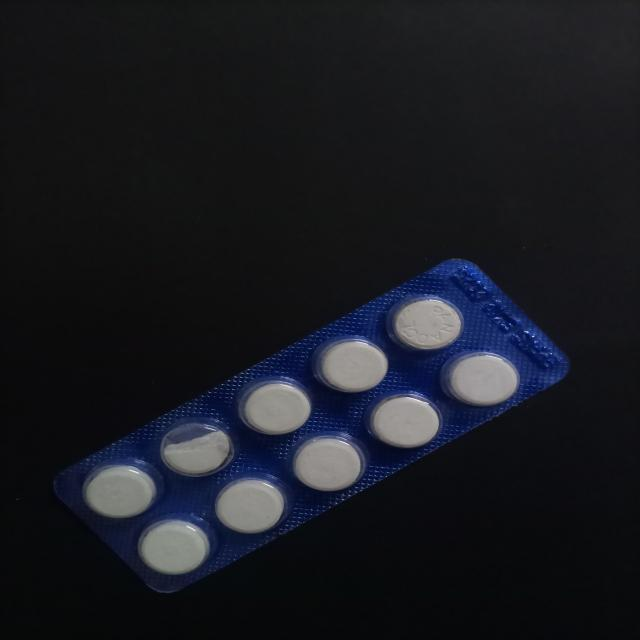defect: (152, 417, 239, 479)
